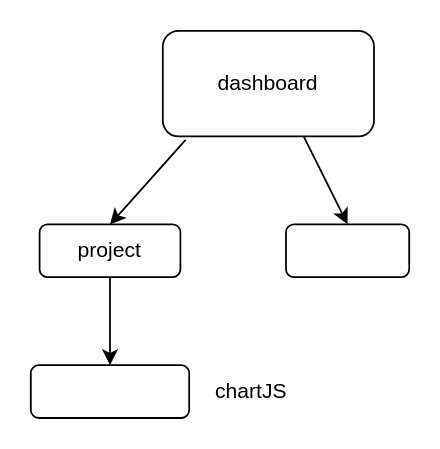
Some shapes in this 440 by 449 pixel diagram are drawn without their labels. Each missing label, with the box of its shape:
profile: (284, 223, 409, 277)
view data: (29, 363, 189, 418)
